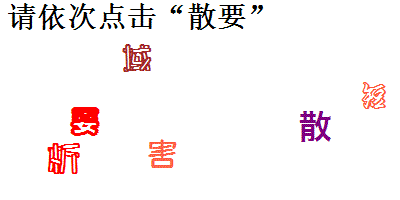result: (186, 1, 247, 32)
text: (44, 141, 82, 177), (298, 109, 334, 145), (68, 106, 102, 139), (119, 43, 154, 72), (147, 139, 179, 170), (359, 80, 388, 112)
